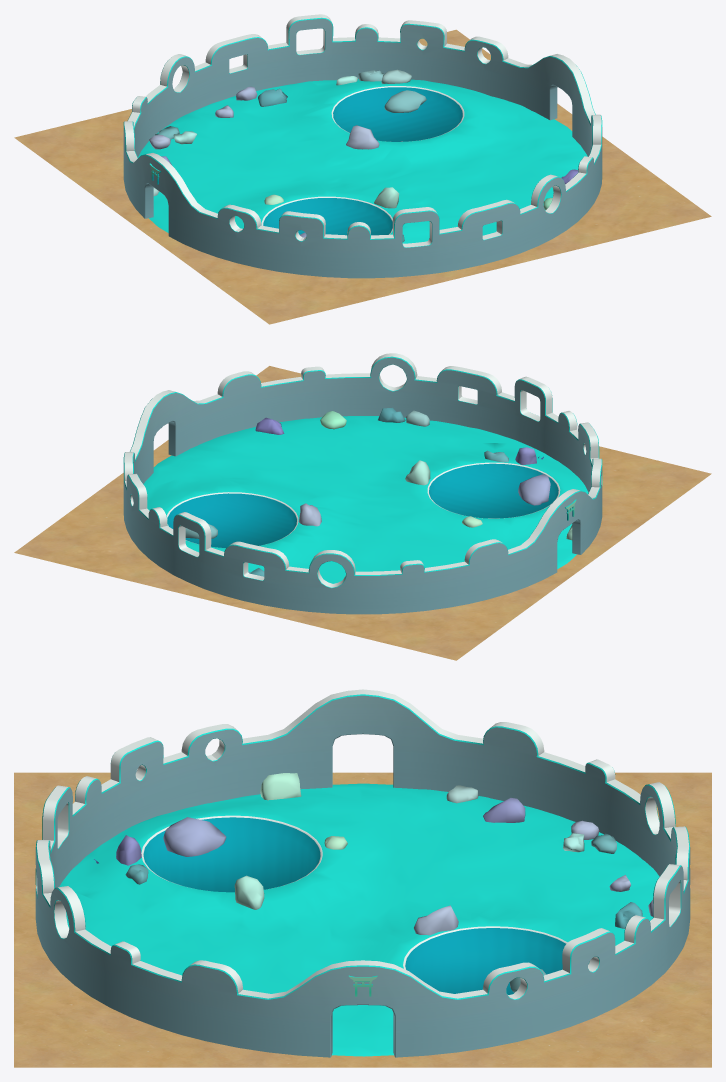
Rendered from static.glb.
The picture shows the model from 3 angles, top to bottom: view 1: azimuth 30°, elevation 25°; view 2: azimuth 150°, elevation 25°; view 3: azimuth 270°, elevation 25°; orthographic projection. The views are drawn at different scales.
Parts seen in each view (by area): view 1: OuterWall, grass, Floor, rocks; view 2: OuterWall, grass, Floor, rocks; view 3: OuterWall, grass, Floor, rocks.
Boxes of the visible parts, bbox=[...] form: OuterWall: bbox=[123, 14, 602, 278]; grass: bbox=[138, 79, 587, 243]; Floor: bbox=[14, 29, 711, 324]; rocks: bbox=[149, 69, 578, 241]; OuterWall: bbox=[123, 353, 602, 614]; grass: bbox=[143, 416, 588, 583]; Floor: bbox=[14, 366, 711, 660]; rocks: bbox=[185, 407, 572, 576]; OuterWall: bbox=[35, 689, 690, 1057]; grass: bbox=[59, 783, 659, 1056]; Floor: bbox=[14, 772, 711, 1067]; rocks: bbox=[116, 773, 653, 992].
Size of what is drawn, in the model's own units: 32 by 5.29 by 32.
2 materials, 2 textured.
